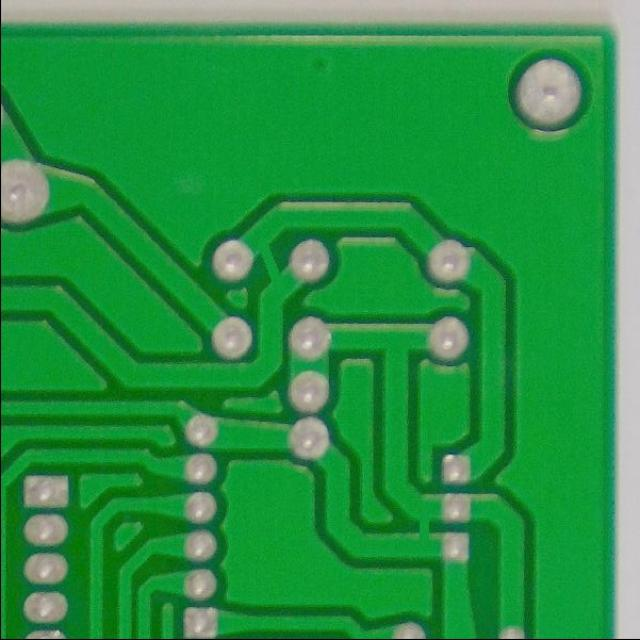Short_Circuit: (398, 488, 450, 565), (244, 230, 298, 299)
